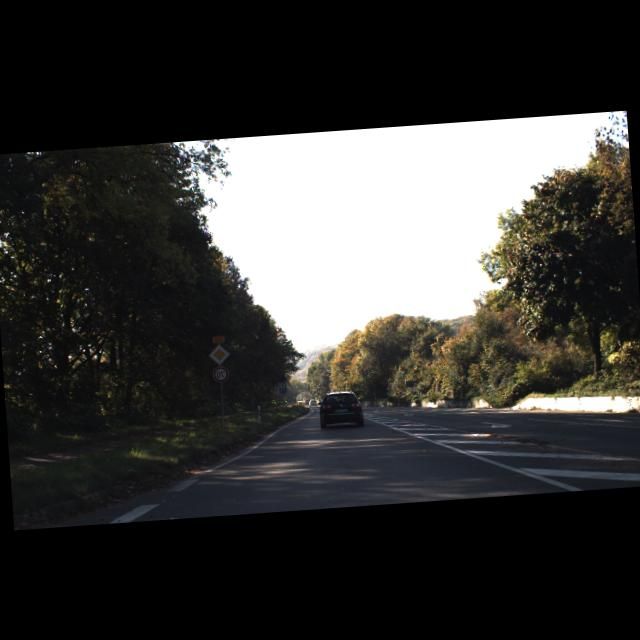other: (208, 342, 232, 366)
prohibitory: (212, 366, 229, 382)
